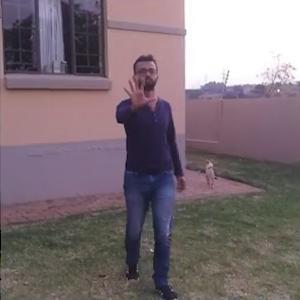follow_hand: (118, 70, 158, 114)
